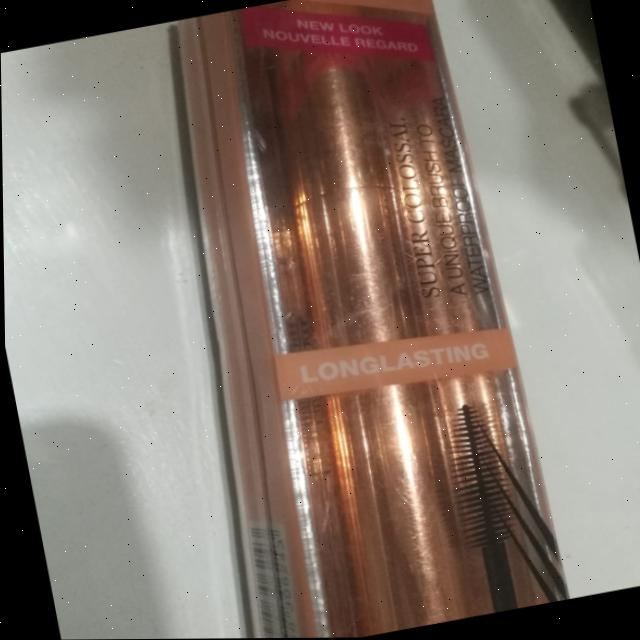mascara: (132, 0, 567, 639)
